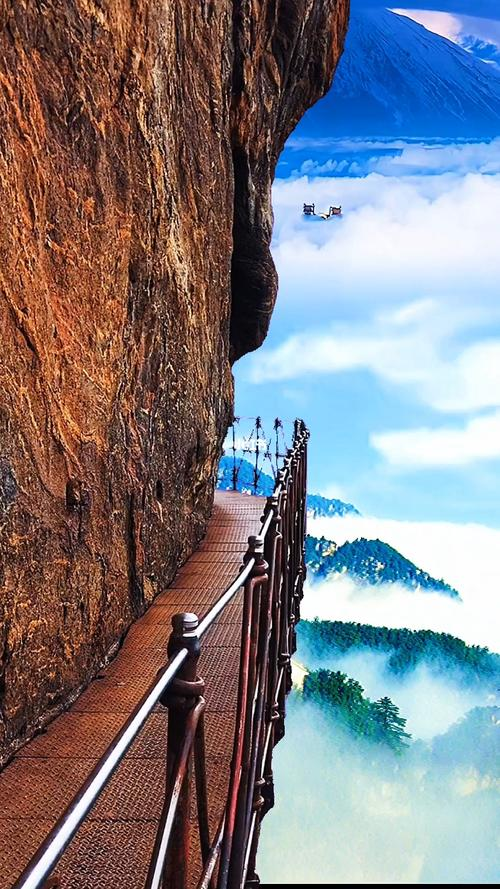buildings: (0, 0, 354, 813)
